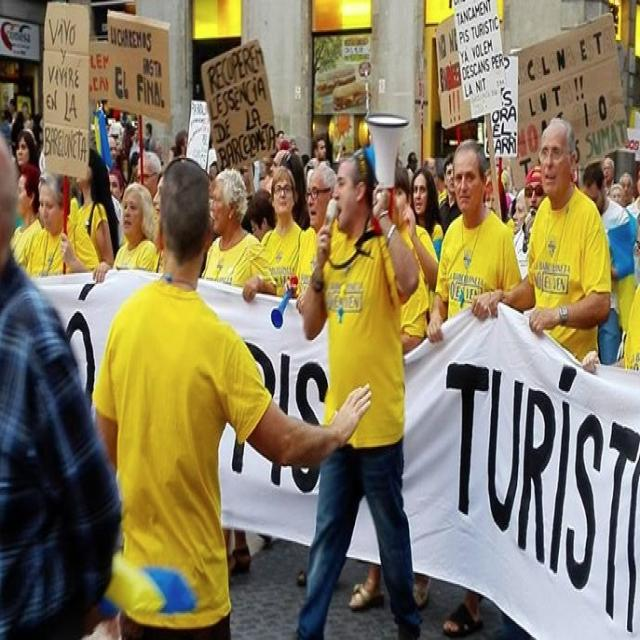body: (84, 142, 374, 638), (0, 126, 125, 640), (293, 151, 422, 640), (424, 139, 522, 640), (484, 115, 612, 362), (282, 161, 338, 589), (200, 166, 280, 306), (581, 160, 632, 367), (388, 163, 438, 353), (22, 164, 102, 278), (0, 96, 42, 279), (269, 121, 341, 227), (90, 99, 188, 172), (90, 178, 156, 286), (259, 163, 306, 300), (409, 163, 445, 324), (85, 174, 120, 281), (483, 153, 527, 236), (620, 212, 640, 370), (392, 148, 446, 184), (245, 188, 278, 244), (602, 153, 640, 201), (135, 167, 163, 222), (524, 164, 550, 223), (240, 155, 270, 193), (64, 174, 83, 209), (205, 139, 219, 183), (432, 174, 447, 209), (620, 201, 639, 222), (192, 77, 203, 102)
